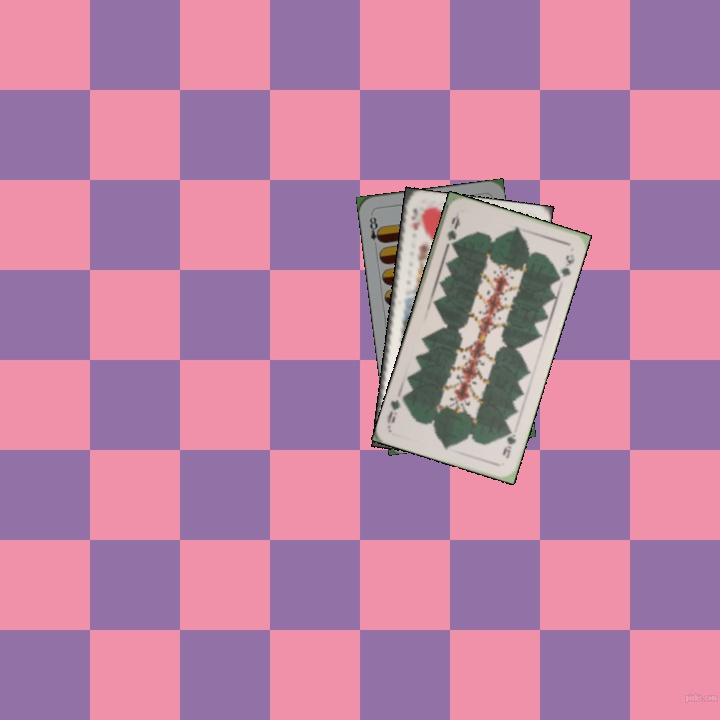E8: (366, 210, 384, 250)
G9: (442, 210, 463, 250), (498, 424, 519, 461)
HK: (408, 204, 423, 232)
